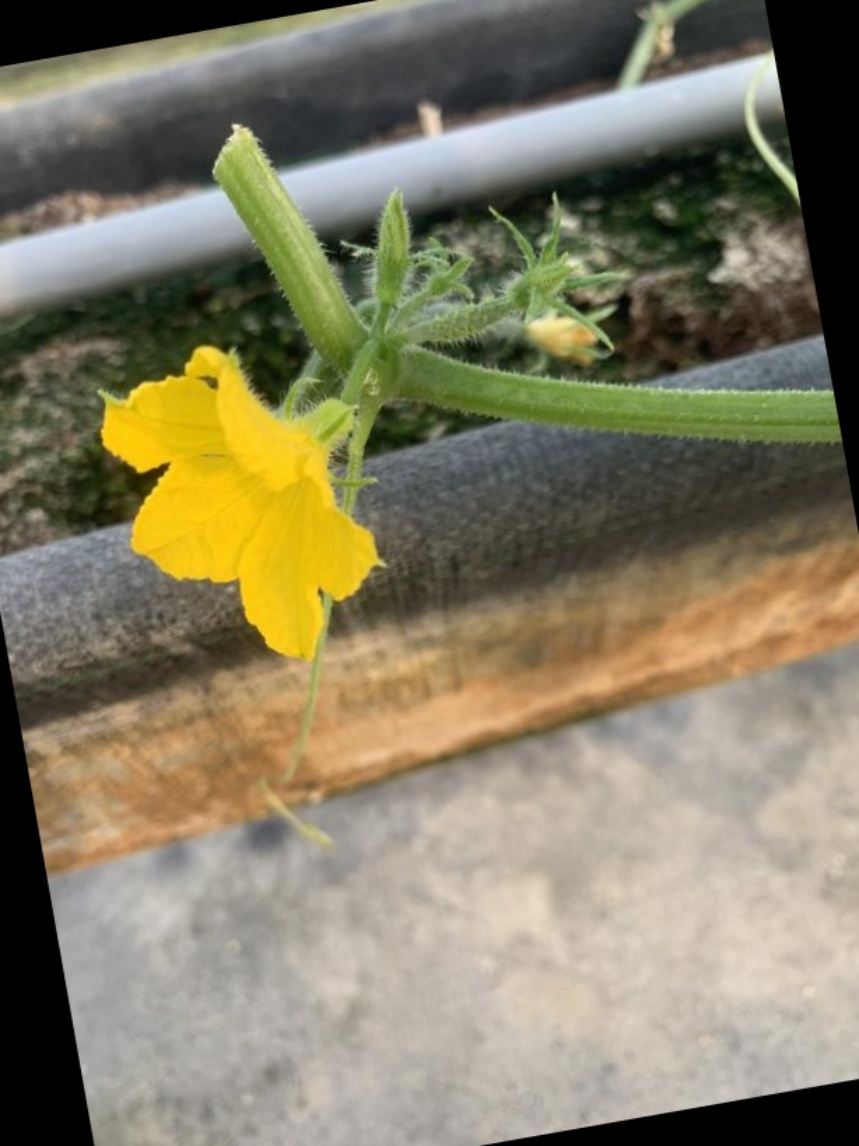mature: (90, 339, 419, 663)
